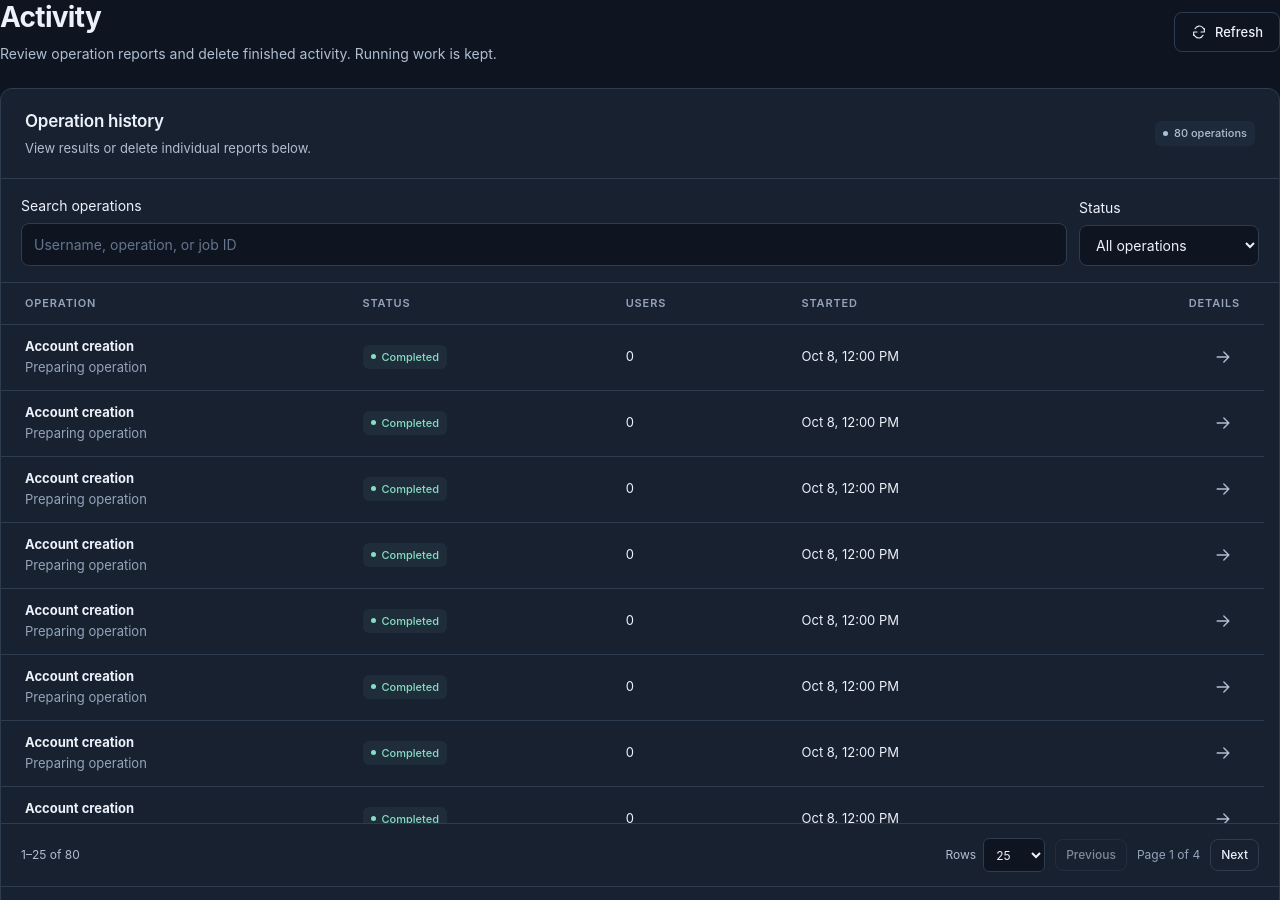
Test: Workspace navigation and migration controls › filters activity across pages and distinguishes no matches from no operations
Click the button with aria-label "Next page" at (1235, 855), box left=1210, top=839, right=1259, bottom=871
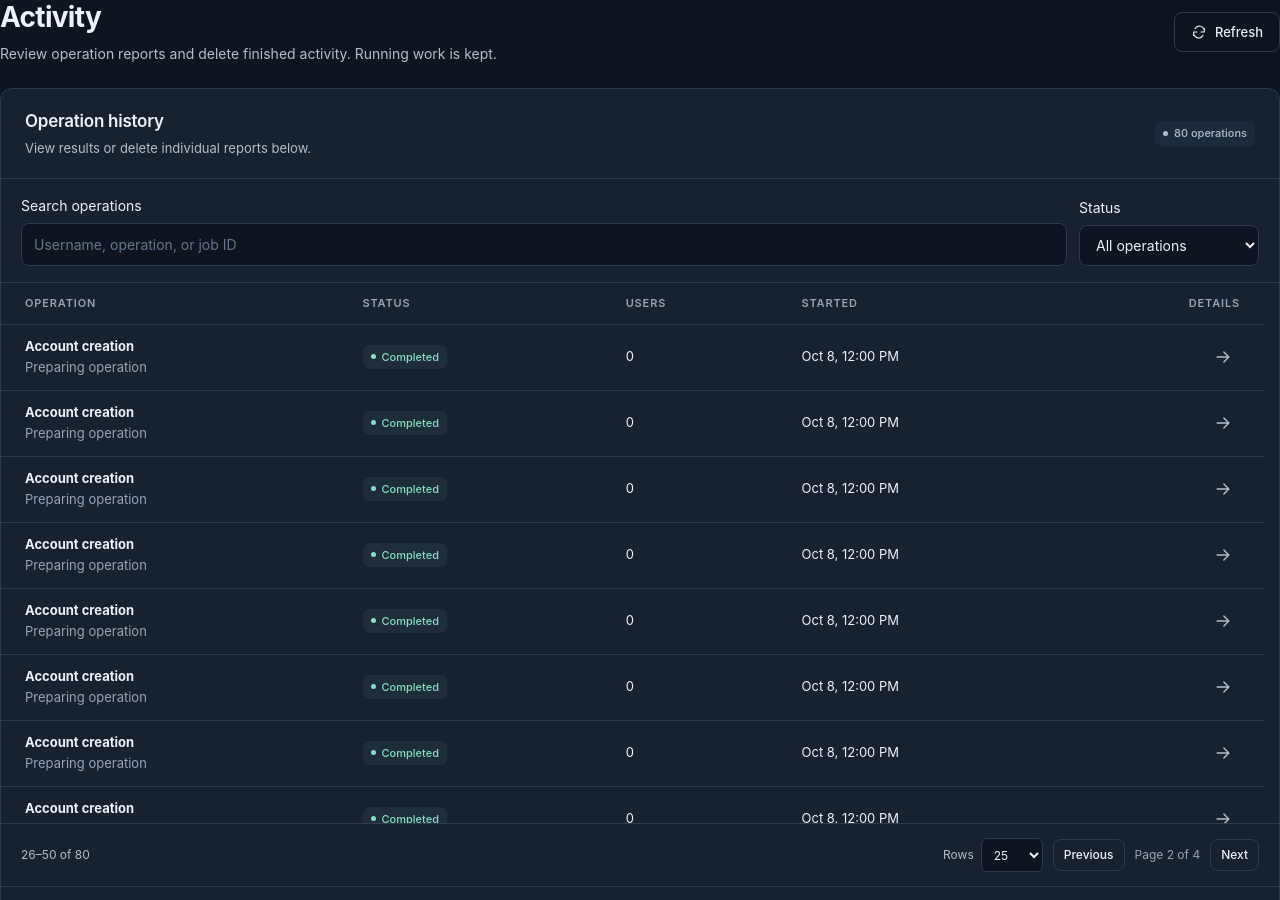
Select "Failed" in the dropdown labelled "Status" at (1169, 246), box left=1079, top=225, right=1259, bottom=266
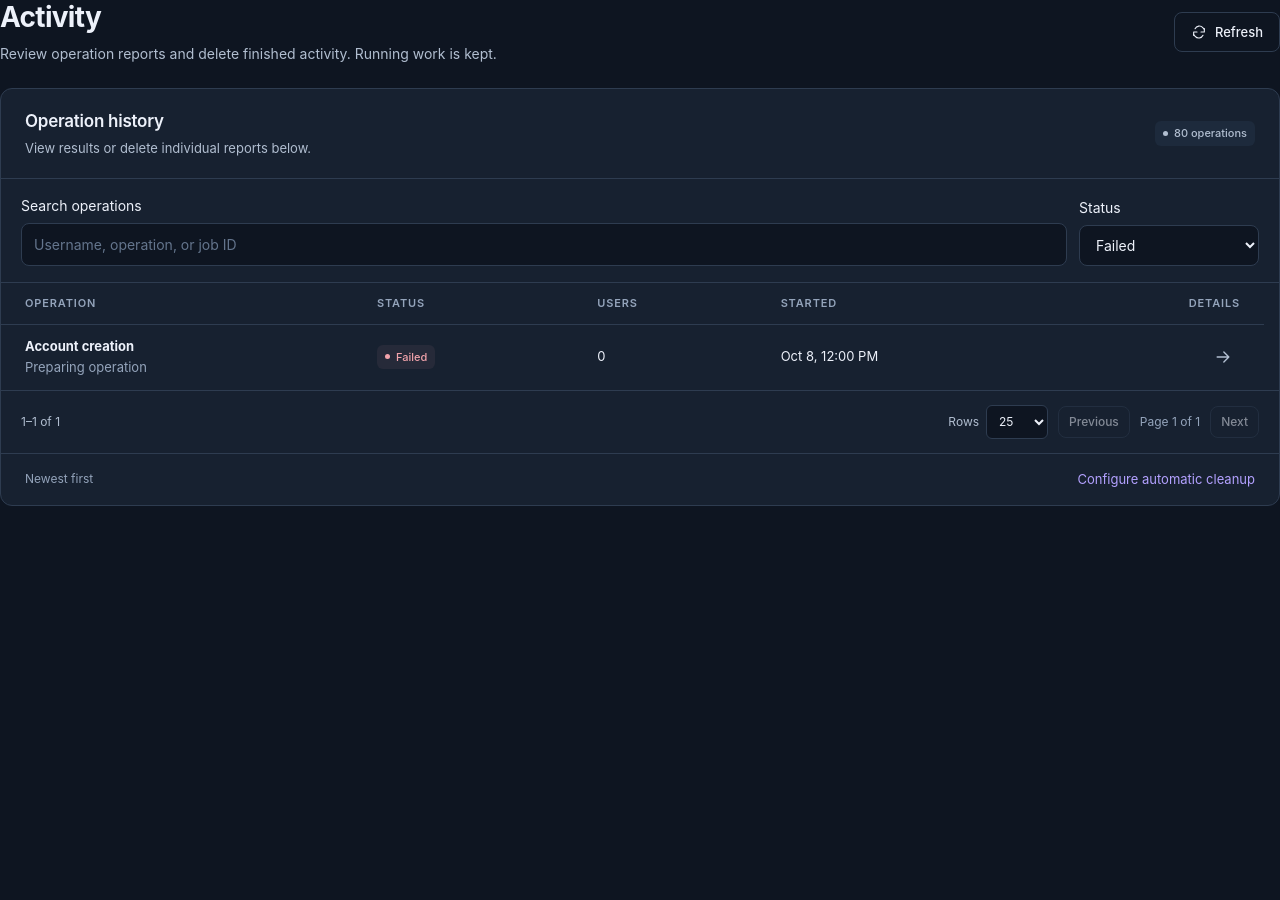
Check: the number of rows is 2, box left=1, top=283, right=1264, bottom=324; left=1, top=324, right=1264, bottom=390
Check: the text "1–1 of 1" is shown, box left=21, top=412, right=60, bottom=430
Type "nonexistent" into the search field labelled "Search operations" at (544, 244), box left=21, top=223, right=1067, bottom=266
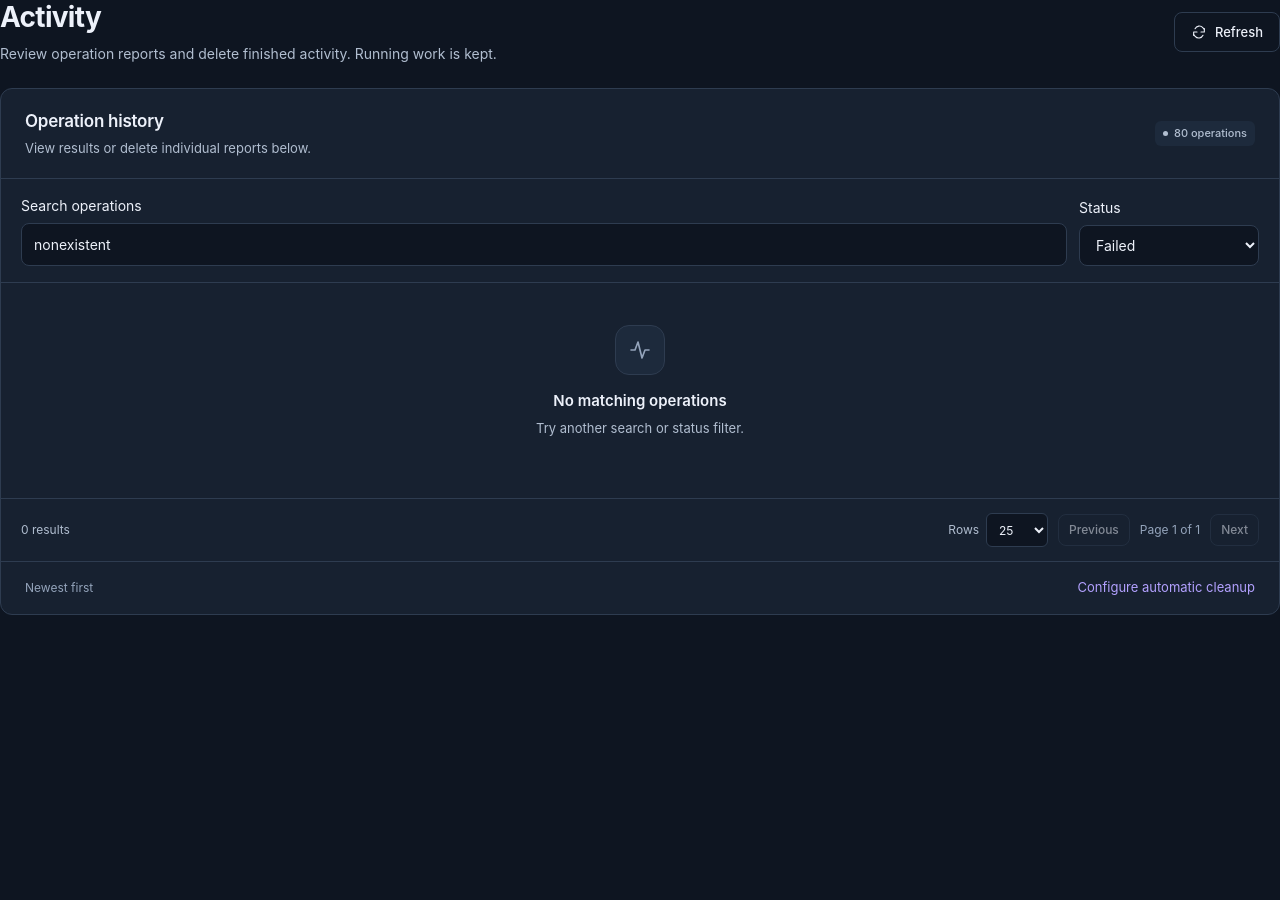
Check: the heading "No matching operations" is shown, box left=553, top=391, right=727, bottom=410
